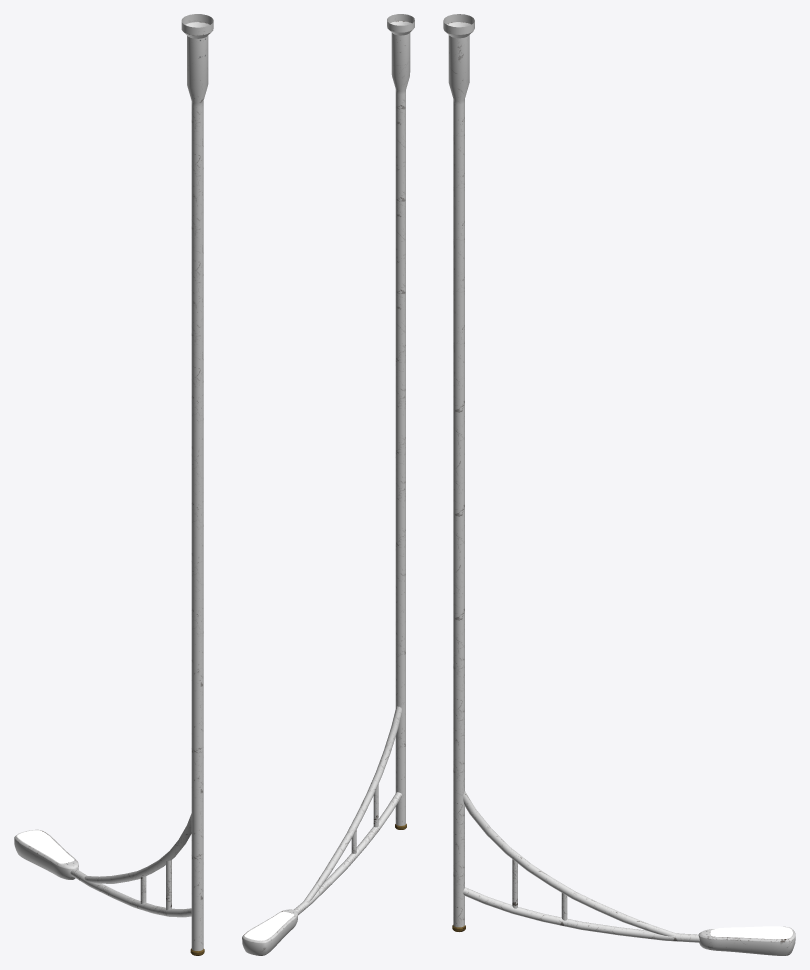
Rendered from street_lamp.glb.
The picture shows the model from 3 angles, left to right: view 1: azimuth 30°, elevation 25°; view 2: azimuth 150°, elevation 25°; view 3: azimuth 270°, elevation 25°; orthographic projection. The views are drawn at different scales.
Bounding box in the file's own units: 0.2123 × 6.36 × 2.18.
1 material, 1 textured.
